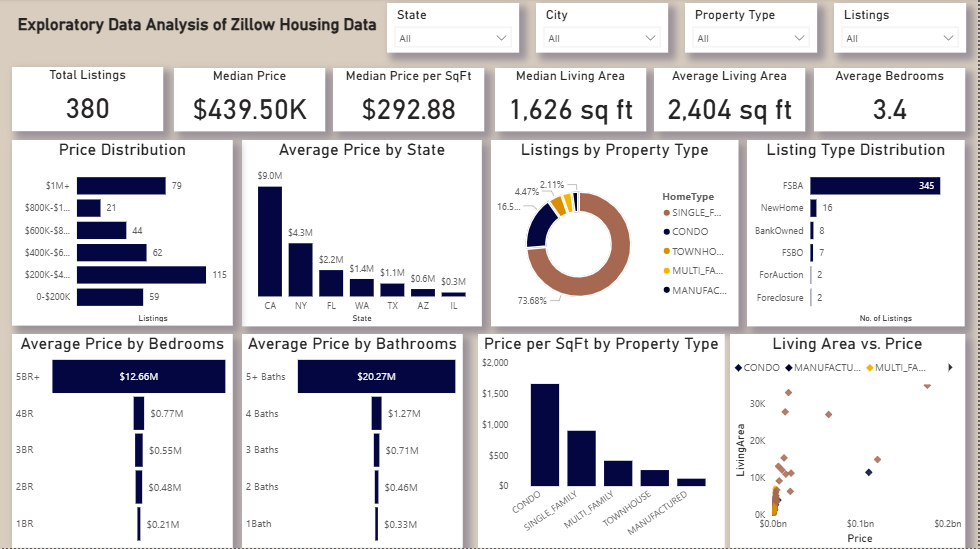

What the dashboard file says about the page in this screenshot:
{"tool":"powerbi","page":{"name":"Page 1","canvas":[1280,720],"ordinal":0},"visuals":[{"type":"card","title":"Total Listings","fields":{"Values":["Zillow_Data.No. of Listings"]},"box":[15.7,90.3,197.7,83.8],"z":0},{"type":"textbox","box":[18,16.8,497.3,44.3],"z":1000},{"type":"card","title":"Median Price","fields":{"Values":["Zillow_Data.Median Price"]},"box":[227.2,91,198.1,83.1],"z":2000},{"type":"card","title":"Median Price per SqFt","fields":{"Values":["Zillow_Data.Median Price per SqFt"]},"box":[436.4,91,198.1,83.1],"z":3000},{"type":"card","title":"Median Living Area","fields":{"Values":["Zillow_Data.Median Living Area"]},"box":[648.3,91,198.1,83.1],"z":4000},{"type":"card","title":"Average Living Area","fields":{"Values":["Zillow_Data.Average Living Area"]},"box":[856.1,91,198.1,83.1],"z":5000},{"type":"card","title":"Average Bedrooms","fields":{"Values":["Zillow_Data.Avg Bedrooms"]},"box":[1065.3,91,198.1,83.1],"z":6000},{"type":"columnChart","fields":{"Category":["Zillow_Data.State"],"Y":["Zillow_Data.Average Price"]},"box":[317.2,185.6,314.5,243.8],"z":7000},{"type":"donutChart","title":"Listings by Property Type","fields":{"Category":["Zillow_Data.HomeType"],"Y":["Zillow_Data.No. of Listings"]},"box":[642.8,185.6,324.2,243.8],"z":8000},{"type":"barChart","title":"Price Distribution","fields":{"Category":["Zillow_Data.Price Bucket "],"Y":["Zillow_Data.No. of Listings"]},"box":[15.7,185.9,289.3,243.5],"z":9000},{"type":"barChart","title":"Listing Type Distribution","fields":{"Category":["Zillow_Data.ListingSubType"],"Y":["Zillow_Data.No. of Listings"]},"box":[978,185.6,285.4,243.8],"z":10000},{"type":"funnel","title":"Average Price by Bedrooms","fields":{"Category":["Zillow_Data.No. of Bedrooms"],"Y":["Zillow_Data.Average Price"]},"box":[15.7,439.9,289.3,280.1],"z":11000},{"type":"columnChart","title":"Price per SqFt by Property Type","fields":{"Y":["Zillow_Data.Price per SqFt"],"Category":["Zillow_Data.HomeType"]},"box":[625.7,439.9,323.3,280.1],"z":12000},{"type":"scatterChart","title":"Living Area vs. Price","fields":{"X":["Zillow_Data.Price"],"Y":["Zillow_Data.LivingArea"],"Series":["Zillow_Data.HomeType"]},"box":[955.6,439.9,307.6,280.1],"z":13000},{"type":"funnel","title":"Average Price by Bathrooms","fields":{"Category":["Zillow_Data.Baths"],"Y":["Zillow_Data.Average Price"]},"box":[316.8,439.9,289.3,280.1],"z":14000},{"type":"slicer","fields":{"Values":["Zillow_Data.State"]},"box":[506.9,6.4,172.7,65.1],"z":15000},{"type":"slicer","fields":{"Values":["Zillow_Data.City"]},"box":[701.8,6.4,172.7,65.1],"z":16000},{"type":"slicer","fields":{"Values":["Zillow_Data.HomeType"]},"box":[896.8,6.4,172.7,65.1],"z":17000},{"type":"slicer","fields":{"Values":["Zillow_Data.ListingSubType"]},"box":[1091.7,6.4,172.7,65.1],"z":18000}]}

Visuals, with their boxes in screenshot pixels (x1, y1, x2, y2), scaled from the page's 1280x720 canvas onto the 980x549 screenshot:
"Total Listings" card: (12, 69, 163, 133)
textbox: (14, 13, 395, 47)
"Median Price" card: (174, 69, 326, 133)
"Median Price per SqFt" card: (334, 69, 486, 133)
"Median Living Area" card: (496, 69, 648, 133)
"Average Living Area" card: (655, 69, 807, 133)
"Average Bedrooms" card: (816, 69, 967, 133)
columnChart - Zillow_Data.State x Zillow_Data.Average Price: (243, 142, 484, 327)
"Listings by Property Type" donutChart: (492, 142, 740, 327)
"Price Distribution" barChart: (12, 142, 234, 327)
"Listing Type Distribution" barChart: (749, 142, 967, 327)
"Average Price by Bedrooms" funnel: (12, 335, 234, 548)
"Price per SqFt by Property Type" columnChart: (479, 335, 727, 548)
"Living Area vs. Price" scatterChart: (732, 335, 967, 548)
"Average Price by Bathrooms" funnel: (243, 335, 464, 548)
slicer - Zillow_Data.State: (388, 5, 520, 55)
slicer - Zillow_Data.City: (537, 5, 670, 55)
slicer - Zillow_Data.HomeType: (687, 5, 819, 55)
slicer - Zillow_Data.ListingSubType: (836, 5, 968, 55)
